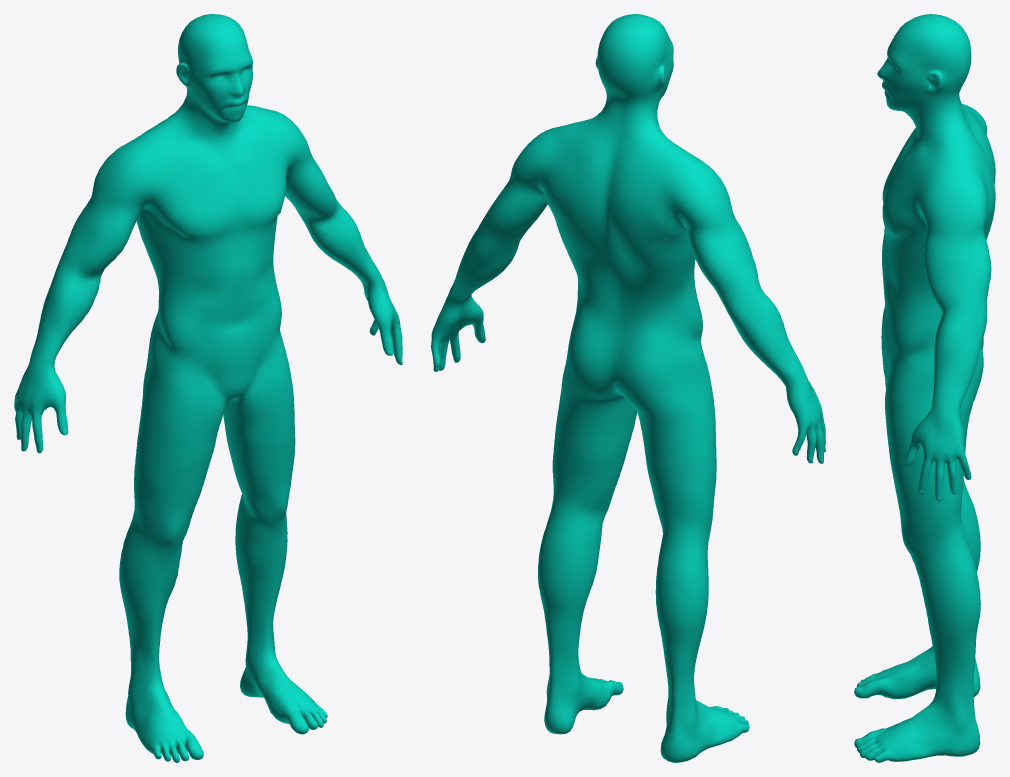
The model's file is ThreeD-Draco.glb.
The picture shows the model from 3 angles, left to right: view 1: azimuth 30°, elevation 25°; view 2: azimuth 150°, elevation 25°; view 3: azimuth 270°, elevation 25°; orthographic projection.
Bounding box in the file's own units: 1.17 × 2.08 × 0.3772.
